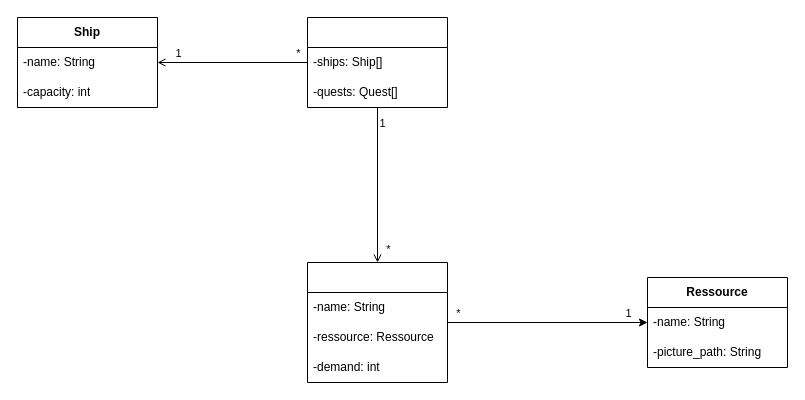
This 805x400 diagram has some shape labels left out. The box of each missing label's shape, as (x1, y1, x2, y2) in pixels:
Homeport: (306, 16, 448, 108)
Quest: (306, 262, 448, 382)
